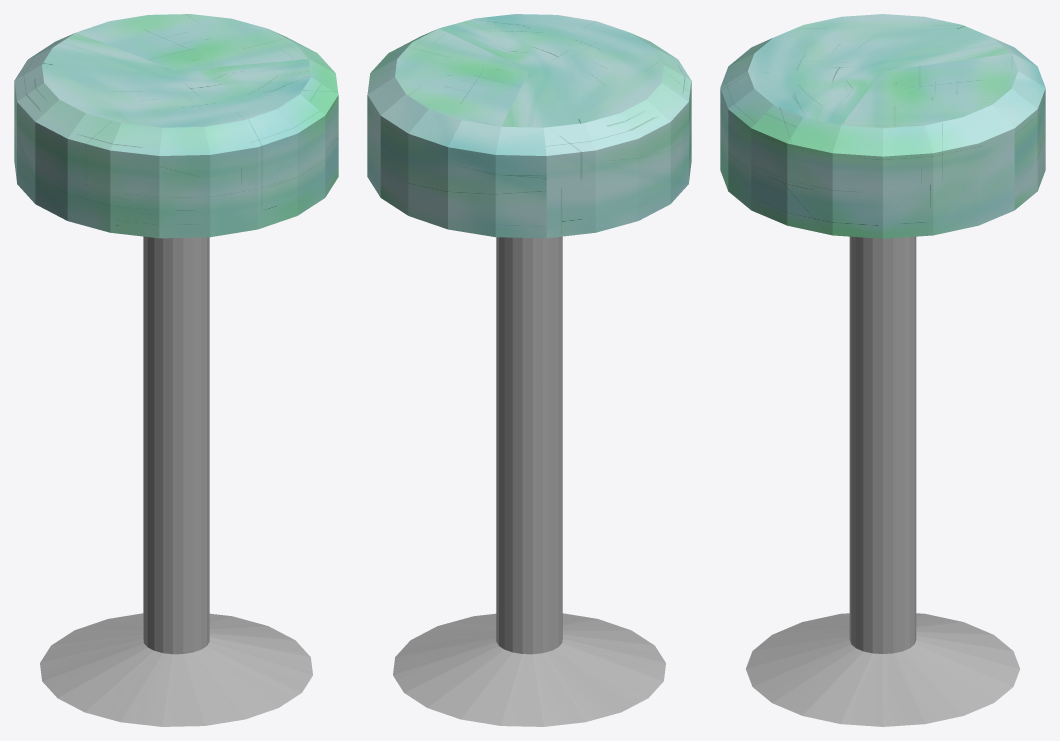
File: stool_new.fbx
The picture shows the model from 3 angles, left to right: view 1: azimuth 30°, elevation 25°; view 2: azimuth 150°, elevation 25°; view 3: azimuth 270°, elevation 25°; orthographic projection.
Parts seen in each view (by area): view 1: pCylinder3; view 2: pCylinder3; view 3: pCylinder3.
Boxes of the visible parts, x1=… form: pCylinder3: x1=14, y1=14, x2=338, y2=726; pCylinder3: x1=367, y1=14, x2=691, y2=726; pCylinder3: x1=720, y1=14, x2=1045, y2=726.
Bounding box in the file's own units: 4.29 × 8.69 × 4.29.
2 materials, 2 textured.
